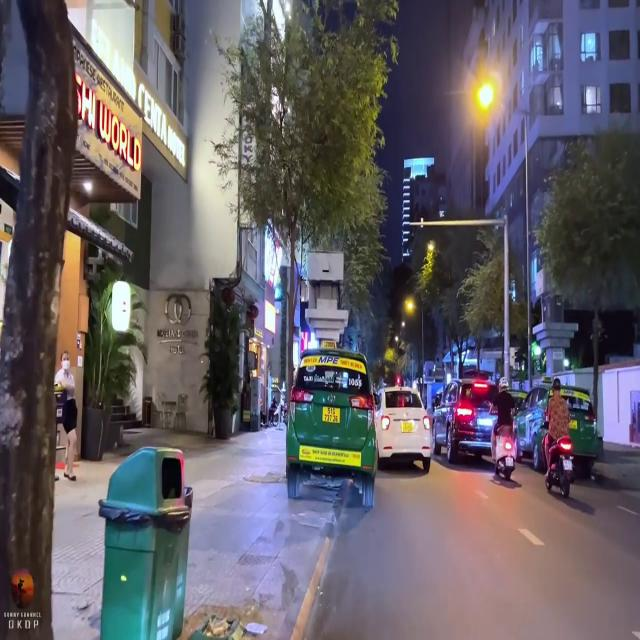bien_vang: (320, 405, 340, 426), (401, 421, 413, 434)
